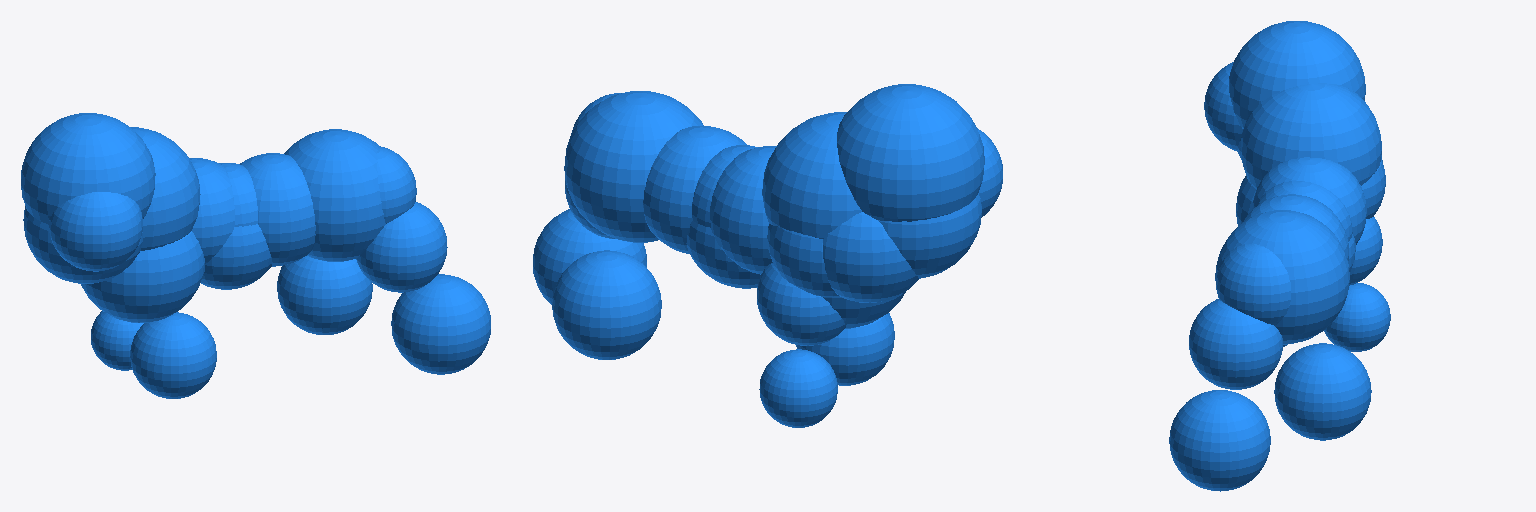
The robot description file, URDF, robot "lion":
<?xml version="1.0"?>
<robot name="lion">
  <!-- morphit:centroid -0.009518 0.002667 0.032626 -->
  <material name="default_color">
    <color rgba="0.200000 0.600000 1.000000 1.000000"/>
  </material>
  <link name="base">
    <inertial>
      <mass value="0.001000"/>
      <inertia ixx="0.000010" ixy="0.0" ixz="0.0" iyy="0.000010" iyz="0.0" izz="0.000010"/>
    </inertial>
  </link>
  <link name="sphere_0">
    <visual>
      <origin xyz="0 0 0" rpy="0 0 0"/>
      <geometry><sphere radius="0.012800"/></geometry>
      <material name="default_color"/>
    </visual>
    <collision>
      <origin xyz="0 0 0" rpy="0 0 0"/>
      <geometry><sphere radius="0.012800"/></geometry>
    </collision>
    <inertial>
      <mass value="0.056388"/>
      <inertia ixx="0.000004" ixy="0.0" ixz="0.0" iyy="0.000004" iyz="0.0" izz="0.000004"/>
    </inertial>
  </link>
  <joint name="sphere_0_fixed" type="fixed">
    <parent link="base"/>
    <child link="sphere_0"/>
    <origin xyz="0.016008 -0.000656 0.004644" rpy="0 0 0"/>
  </joint>
  <link name="sphere_1">
    <visual>
      <origin xyz="0 0 0" rpy="0 0 0"/>
      <geometry><sphere radius="0.011311"/></geometry>
      <material name="default_color"/>
    </visual>
    <collision>
      <origin xyz="0 0 0" rpy="0 0 0"/>
      <geometry><sphere radius="0.011311"/></geometry>
    </collision>
    <inertial>
      <mass value="0.038911"/>
      <inertia ixx="0.000002" ixy="0.0" ixz="0.0" iyy="0.000002" iyz="0.0" izz="0.000002"/>
    </inertial>
  </link>
  <joint name="sphere_1_fixed" type="fixed">
    <parent link="base"/>
    <child link="sphere_1"/>
    <origin xyz="0.050588 -0.016583 -0.025476" rpy="0 0 0"/>
  </joint>
  <link name="sphere_2">
    <visual>
      <origin xyz="0 0 0" rpy="0 0 0"/>
      <geometry><sphere radius="0.009821"/></geometry>
      <material name="default_color"/>
    </visual>
    <collision>
      <origin xyz="0 0 0" rpy="0 0 0"/>
      <geometry><sphere radius="0.009821"/></geometry>
    </collision>
    <inertial>
      <mass value="0.025465"/>
      <inertia ixx="0.000001" ixy="0.0" ixz="0.0" iyy="0.000001" iyz="0.0" izz="0.000001"/>
    </inertial>
  </link>
  <joint name="sphere_2_fixed" type="fixed">
    <parent link="base"/>
    <child link="sphere_2"/>
    <origin xyz="-0.013199 -0.006457 -0.022420" rpy="0 0 0"/>
  </joint>
  <link name="sphere_3">
    <visual>
      <origin xyz="0 0 0" rpy="0 0 0"/>
      <geometry><sphere radius="0.015354"/></geometry>
      <material name="default_color"/>
    </visual>
    <collision>
      <origin xyz="0 0 0" rpy="0 0 0"/>
      <geometry><sphere radius="0.015354"/></geometry>
    </collision>
    <inertial>
      <mass value="0.097313"/>
      <inertia ixx="0.000009" ixy="0.0" ixz="0.0" iyy="0.000009" iyz="0.0" izz="0.000009"/>
    </inertial>
  </link>
  <joint name="sphere_3_fixed" type="fixed">
    <parent link="base"/>
    <child link="sphere_3"/>
    <origin xyz="-0.031270 0.000499 0.022380" rpy="0 0 0"/>
  </joint>
  <link name="sphere_4">
    <visual>
      <origin xyz="0 0 0" rpy="0 0 0"/>
      <geometry><sphere radius="0.015744"/></geometry>
      <material name="default_color"/>
    </visual>
    <collision>
      <origin xyz="0 0 0" rpy="0 0 0"/>
      <geometry><sphere radius="0.015744"/></geometry>
    </collision>
    <inertial>
      <mass value="0.104936"/>
      <inertia ixx="0.000010" ixy="0.0" ixz="0.0" iyy="0.000010" iyz="0.0" izz="0.000010"/>
    </inertial>
  </link>
  <joint name="sphere_4_fixed" type="fixed">
    <parent link="base"/>
    <child link="sphere_4"/>
    <origin xyz="-0.018330 0.003685 0.014113" rpy="0 0 0"/>
  </joint>
  <link name="sphere_5">
    <visual>
      <origin xyz="0 0 0" rpy="0 0 0"/>
      <geometry><sphere radius="0.007750"/></geometry>
      <material name="default_color"/>
    </visual>
    <collision>
      <origin xyz="0 0 0" rpy="0 0 0"/>
      <geometry><sphere radius="0.007750"/></geometry>
    </collision>
    <inertial>
      <mass value="0.012515"/>
      <inertia ixx="0.000000" ixy="0.0" ixz="0.0" iyy="0.000000" iyz="0.0" izz="0.000000"/>
    </inertial>
  </link>
  <joint name="sphere_5_fixed" type="fixed">
    <parent link="base"/>
    <child link="sphere_5"/>
    <origin xyz="-0.014253 0.013592 -0.025508" rpy="0 0 0"/>
  </joint>
  <link name="sphere_6">
    <visual>
      <origin xyz="0 0 0" rpy="0 0 0"/>
      <geometry><sphere radius="0.010527"/></geometry>
      <material name="default_color"/>
    </visual>
    <collision>
      <origin xyz="0 0 0" rpy="0 0 0"/>
      <geometry><sphere radius="0.010527"/></geometry>
    </collision>
    <inertial>
      <mass value="0.031366"/>
      <inertia ixx="0.000001" ixy="0.0" ixz="0.0" iyy="0.000001" iyz="0.0" izz="0.000001"/>
    </inertial>
  </link>
  <joint name="sphere_6_fixed" type="fixed">
    <parent link="base"/>
    <child link="sphere_6"/>
    <origin xyz="0.042108 -0.013037 -0.005409" rpy="0 0 0"/>
  </joint>
  <link name="sphere_7">
    <visual>
      <origin xyz="0 0 0" rpy="0 0 0"/>
      <geometry><sphere radius="0.010680"/></geometry>
      <material name="default_color"/>
    </visual>
    <collision>
      <origin xyz="0 0 0" rpy="0 0 0"/>
      <geometry><sphere radius="0.010680"/></geometry>
    </collision>
    <inertial>
      <mass value="0.032754"/>
      <inertia ixx="0.000001" ixy="0.0" ixz="0.0" iyy="0.000001" iyz="0.0" izz="0.000001"/>
    </inertial>
  </link>
  <joint name="sphere_7_fixed" type="fixed">
    <parent link="base"/>
    <child link="sphere_7"/>
    <origin xyz="-0.035119 -0.009467 0.016542" rpy="0 0 0"/>
  </joint>
  <link name="sphere_8">
    <visual>
      <origin xyz="0 0 0" rpy="0 0 0"/>
      <geometry><sphere radius="0.014756"/></geometry>
      <material name="default_color"/>
    </visual>
    <collision>
      <origin xyz="0 0 0" rpy="0 0 0"/>
      <geometry><sphere radius="0.014756"/></geometry>
    </collision>
    <inertial>
      <mass value="0.086382"/>
      <inertia ixx="0.000008" ixy="0.0" ixz="0.0" iyy="0.000008" iyz="0.0" izz="0.000008"/>
    </inertial>
  </link>
  <joint name="sphere_8_fixed" type="fixed">
    <parent link="base"/>
    <child link="sphere_8"/>
    <origin xyz="-0.017101 0.001650 -0.000479" rpy="0 0 0"/>
  </joint>
  <link name="sphere_9">
    <visual>
      <origin xyz="0 0 0" rpy="0 0 0"/>
      <geometry><sphere radius="0.009906"/></geometry>
      <material name="default_color"/>
    </visual>
    <collision>
      <origin xyz="0 0 0" rpy="0 0 0"/>
      <geometry><sphere radius="0.009906"/></geometry>
    </collision>
    <inertial>
      <mass value="0.026133"/>
      <inertia ixx="0.000001" ixy="0.0" ixz="0.0" iyy="0.000001" iyz="0.0" izz="0.000001"/>
    </inertial>
  </link>
  <joint name="sphere_9_fixed" type="fixed">
    <parent link="base"/>
    <child link="sphere_9"/>
    <origin xyz="-0.013838 0.009666 -0.007019" rpy="0 0 0"/>
  </joint>
  <link name="sphere_10">
    <visual>
      <origin xyz="0 0 0" rpy="0 0 0"/>
      <geometry><sphere radius="0.011399"/></geometry>
      <material name="default_color"/>
    </visual>
    <collision>
      <origin xyz="0 0 0" rpy="0 0 0"/>
      <geometry><sphere radius="0.011399"/></geometry>
    </collision>
    <inertial>
      <mass value="0.039824"/>
      <inertia ixx="0.000002" ixy="0.0" ixz="0.0" iyy="0.000002" iyz="0.0" izz="0.000002"/>
    </inertial>
  </link>
  <joint name="sphere_10_fixed" type="fixed">
    <parent link="base"/>
    <child link="sphere_10"/>
    <origin xyz="0.005281 0.001610 0.005403" rpy="0 0 0"/>
  </joint>
  <link name="sphere_11">
    <visual>
      <origin xyz="0 0 0" rpy="0 0 0"/>
      <geometry><sphere radius="0.014085"/></geometry>
      <material name="default_color"/>
    </visual>
    <collision>
      <origin xyz="0 0 0" rpy="0 0 0"/>
      <geometry><sphere radius="0.014085"/></geometry>
    </collision>
    <inertial>
      <mass value="0.075131"/>
      <inertia ixx="0.000006" ixy="0.0" ixz="0.0" iyy="0.000006" iyz="0.0" izz="0.000006"/>
    </inertial>
  </link>
  <joint name="sphere_11_fixed" type="fixed">
    <parent link="base"/>
    <child link="sphere_11"/>
    <origin xyz="-0.032078 0.000312 0.012544" rpy="0 0 0"/>
  </joint>
  <link name="sphere_12">
    <visual>
      <origin xyz="0 0 0" rpy="0 0 0"/>
      <geometry><sphere radius="0.014990"/></geometry>
      <material name="default_color"/>
    </visual>
    <collision>
      <origin xyz="0 0 0" rpy="0 0 0"/>
      <geometry><sphere radius="0.014990"/></geometry>
    </collision>
    <inertial>
      <mass value="0.090557"/>
      <inertia ixx="0.000008" ixy="0.0" ixz="0.0" iyy="0.000008" iyz="0.0" izz="0.000008"/>
    </inertial>
  </link>
  <joint name="sphere_12_fixed" type="fixed">
    <parent link="base"/>
    <child link="sphere_12"/>
    <origin xyz="0.031120 -0.002702 0.005475" rpy="0 0 0"/>
  </joint>
  <link name="sphere_13">
    <visual>
      <origin xyz="0 0 0" rpy="0 0 0"/>
      <geometry><sphere radius="0.012774"/></geometry>
      <material name="default_color"/>
    </visual>
    <collision>
      <origin xyz="0 0 0" rpy="0 0 0"/>
      <geometry><sphere radius="0.012774"/></geometry>
    </collision>
    <inertial>
      <mass value="0.056044"/>
      <inertia ixx="0.000004" ixy="0.0" ixz="0.0" iyy="0.000004" iyz="0.0" izz="0.000004"/>
    </inertial>
  </link>
  <joint name="sphere_13_fixed" type="fixed">
    <parent link="base"/>
    <child link="sphere_13"/>
    <origin xyz="-0.002031 0.003297 0.006094" rpy="0 0 0"/>
  </joint>
  <link name="sphere_14">
    <visual>
      <origin xyz="0 0 0" rpy="0 0 0"/>
      <geometry><sphere radius="0.010259"/></geometry>
      <material name="default_color"/>
    </visual>
    <collision>
      <origin xyz="0 0 0" rpy="0 0 0"/>
      <geometry><sphere radius="0.010259"/></geometry>
    </collision>
    <inertial>
      <mass value="0.029031"/>
      <inertia ixx="0.000001" ixy="0.0" ixz="0.0" iyy="0.000001" iyz="0.0" izz="0.000001"/>
    </inertial>
  </link>
  <joint name="sphere_14_fixed" type="fixed">
    <parent link="base"/>
    <child link="sphere_14"/>
    <origin xyz="0.037816 -0.007169 0.006887" rpy="0 0 0"/>
  </joint>
  <link name="sphere_15">
    <visual>
      <origin xyz="0 0 0" rpy="0 0 0"/>
      <geometry><sphere radius="0.012537"/></geometry>
      <material name="default_color"/>
    </visual>
    <collision>
      <origin xyz="0 0 0" rpy="0 0 0"/>
      <geometry><sphere radius="0.012537"/></geometry>
    </collision>
    <inertial>
      <mass value="0.052977"/>
      <inertia ixx="0.000003" ixy="0.0" ixz="0.0" iyy="0.000003" iyz="0.0" izz="0.000003"/>
    </inertial>
  </link>
  <joint name="sphere_15_fixed" type="fixed">
    <parent link="base"/>
    <child link="sphere_15"/>
    <origin xyz="0.004877 0.001069 0.000488" rpy="0 0 0"/>
  </joint>
  <link name="sphere_16">
    <visual>
      <origin xyz="0 0 0" rpy="0 0 0"/>
      <geometry><sphere radius="0.012434"/></geometry>
      <material name="default_color"/>
    </visual>
    <collision>
      <origin xyz="0 0 0" rpy="0 0 0"/>
      <geometry><sphere radius="0.012434"/></geometry>
    </collision>
    <inertial>
      <mass value="0.051684"/>
      <inertia ixx="0.000003" ixy="0.0" ixz="0.0" iyy="0.000003" iyz="0.0" izz="0.000003"/>
    </inertial>
  </link>
  <joint name="sphere_16_fixed" type="fixed">
    <parent link="base"/>
    <child link="sphere_16"/>
    <origin xyz="-0.018098 0.007863 0.006037" rpy="0 0 0"/>
  </joint>
  <link name="sphere_17">
    <visual>
      <origin xyz="0 0 0" rpy="0 0 0"/>
      <geometry><sphere radius="0.010817"/></geometry>
      <material name="default_color"/>
    </visual>
    <collision>
      <origin xyz="0 0 0" rpy="0 0 0"/>
      <geometry><sphere radius="0.010817"/></geometry>
    </collision>
    <inertial>
      <mass value="0.034031"/>
      <inertia ixx="0.000002" ixy="0.0" ixz="0.0" iyy="0.000002" iyz="0.0" izz="0.000002"/>
    </inertial>
  </link>
  <joint name="sphere_17_fixed" type="fixed">
    <parent link="base"/>
    <child link="sphere_17"/>
    <origin xyz="0.033504 0.006263 -0.021514" rpy="0 0 0"/>
  </joint>
  <link name="sphere_18">
    <visual>
      <origin xyz="0 0 0" rpy="0 0 0"/>
      <geometry><sphere radius="0.012962"/></geometry>
      <material name="default_color"/>
    </visual>
    <collision>
      <origin xyz="0 0 0" rpy="0 0 0"/>
      <geometry><sphere radius="0.012962"/></geometry>
    </collision>
    <inertial>
      <mass value="0.058556"/>
      <inertia ixx="0.000004" ixy="0.0" ixz="0.0" iyy="0.000004" iyz="0.0" izz="0.000004"/>
    </inertial>
  </link>
  <joint name="sphere_18_fixed" type="fixed">
    <parent link="base"/>
    <child link="sphere_18"/>
    <origin xyz="-0.025984 0.006566 0.007220" rpy="0 0 0"/>
  </joint>
</robot>

--- What the picture shows (computed from the rendered views, not written in the file) ---
3 views of the same robot in one strip: view 1: azimuth 30°, elevation 25°; view 2: azimuth 150°, elevation 25°; view 3: azimuth 270°, elevation 25° (orthographic).
Robot: lion — 20 links, 19 joints (19 fixed); root link base; default pose: all joints at 0.
Visible links, largest first — view 1: sphere_3, sphere_12, sphere_1, sphere_8, sphere_7, sphere_17, sphere_2, sphere_0, sphere_6, sphere_4, sphere_13, sphere_15 (+4 smaller); view 2: sphere_3, sphere_12, sphere_17, sphere_4, sphere_0, sphere_18, sphere_13, sphere_5, sphere_11, sphere_9, sphere_1, sphere_2 (+5 smaller); view 3: sphere_4, sphere_12, sphere_3, sphere_1, sphere_17, sphere_6, sphere_14, sphere_13, sphere_5, sphere_7, sphere_0, sphere_10 (+3 smaller).
Boxes of the visible links, bbox=[...] form: sphere_3: bbox=[21, 113, 155, 224]; sphere_12: bbox=[284, 129, 385, 261]; sphere_1: bbox=[391, 274, 490, 374]; sphere_8: bbox=[81, 231, 204, 322]; sphere_7: bbox=[49, 192, 142, 271]; sphere_17: bbox=[277, 256, 372, 334]; sphere_2: bbox=[130, 312, 216, 398]; sphere_0: bbox=[240, 153, 315, 266]; sphere_6: bbox=[356, 202, 447, 292]; sphere_4: bbox=[131, 127, 200, 250]; sphere_13: bbox=[189, 158, 234, 263]; sphere_15: bbox=[201, 224, 272, 289]; sphere_3: bbox=[837, 84, 984, 221]; sphere_12: bbox=[564, 91, 703, 242]; sphere_17: bbox=[552, 250, 661, 359]; sphere_4: bbox=[762, 112, 861, 238]; sphere_0: bbox=[643, 126, 746, 253]; sphere_18: bbox=[823, 212, 918, 302]; sphere_13: bbox=[710, 146, 776, 274]; sphere_5: bbox=[759, 349, 837, 427]; sphere_11: bbox=[878, 194, 981, 278]; sphere_9: bbox=[757, 263, 845, 345]; sphere_1: bbox=[533, 209, 646, 304]; sphere_2: bbox=[796, 313, 894, 385]; sphere_4: bbox=[1240, 83, 1381, 187]; sphere_12: bbox=[1215, 210, 1349, 344]; sphere_3: bbox=[1229, 21, 1365, 128]; sphere_1: bbox=[1169, 390, 1270, 491]; sphere_17: bbox=[1274, 343, 1371, 440]; sphere_6: bbox=[1189, 299, 1282, 389]; sphere_14: bbox=[1216, 244, 1290, 325]; sphere_13: bbox=[1252, 157, 1366, 244]; sphere_5: bbox=[1324, 283, 1390, 351]; sphere_7: bbox=[1204, 62, 1242, 151]; sphere_0: bbox=[1243, 194, 1348, 260]; sphere_10: bbox=[1256, 181, 1352, 241].
Bounding box of the posed robot: 0.1085 × 0.0492 × 0.0745 m (x, y, z).
Geometry: primitives only (box / cylinder / sphere), no mesh files.
